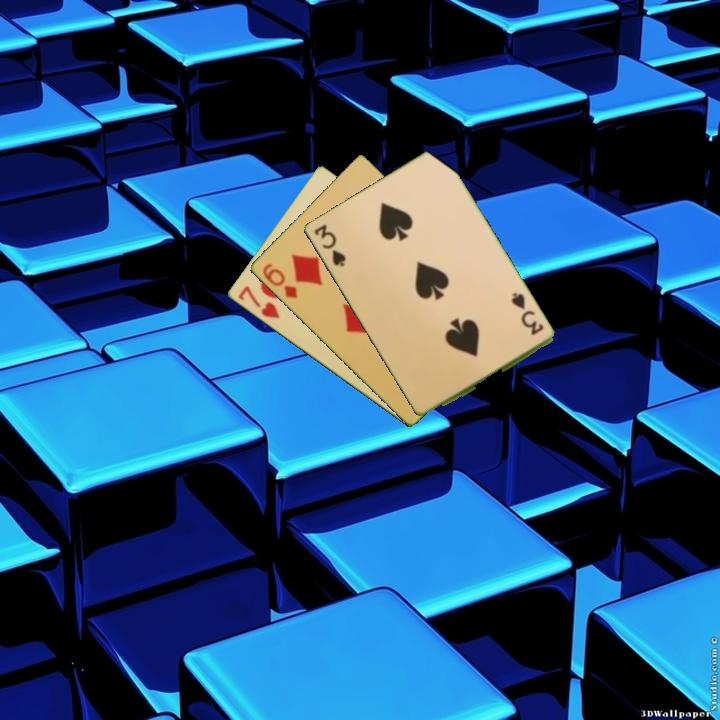3s: (310, 220, 348, 270), (507, 290, 546, 338)
6d: (259, 260, 300, 302)
7h: (234, 282, 282, 322)
